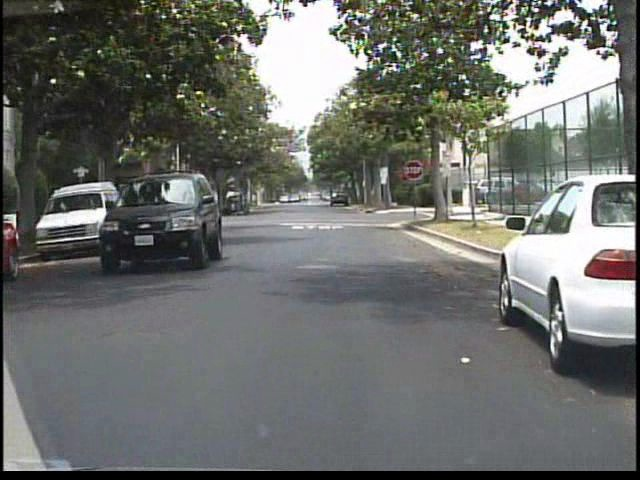person: (234, 181, 254, 222)
